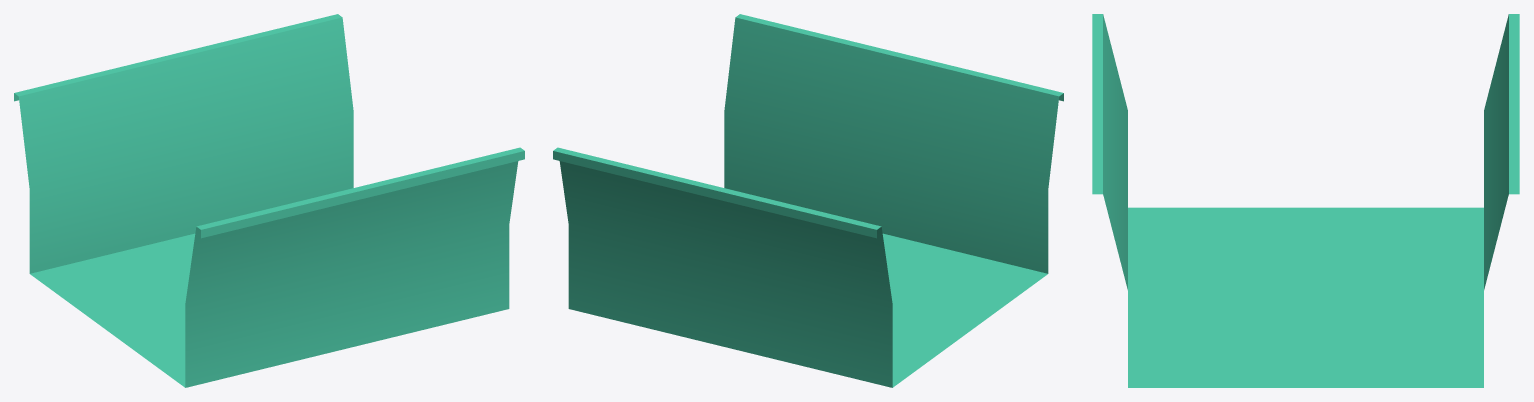
The model's file is Floor_4x4m_D.FBX.
3 renders of one model, left to right at view 1: azimuth 30°, elevation 25°; view 2: azimuth 150°, elevation 25°; view 3: azimuth 270°, elevation 25°, orthographic. The views are drawn at different scales.
Parts seen in each view (by area): view 1: Floor_4x4m_D; view 2: Floor_4x4m_D; view 3: Floor_4x4m_D.
Boxes of the visible parts, bbox=[...] form: Floor_4x4m_D: bbox=[14, 14, 524, 387]; Floor_4x4m_D: bbox=[553, 14, 1063, 387]; Floor_4x4m_D: bbox=[1092, 14, 1519, 387].
Size of the model in its own units: 400 by 200 by 400.
